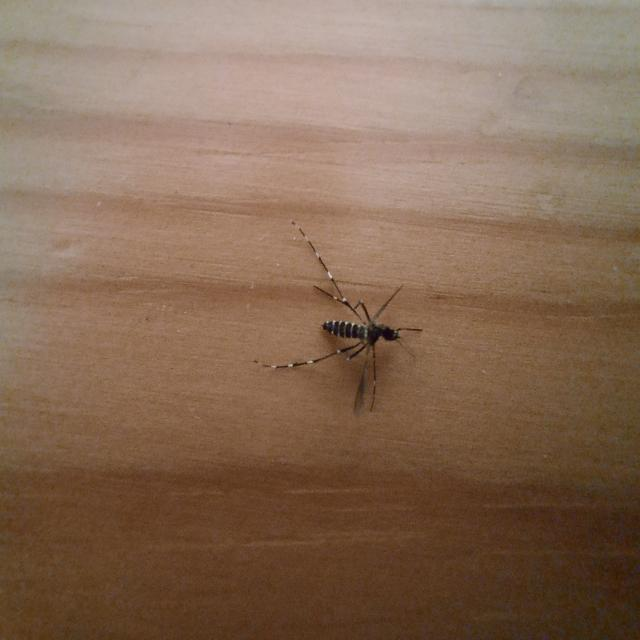albopictus: (260, 209, 431, 418)
